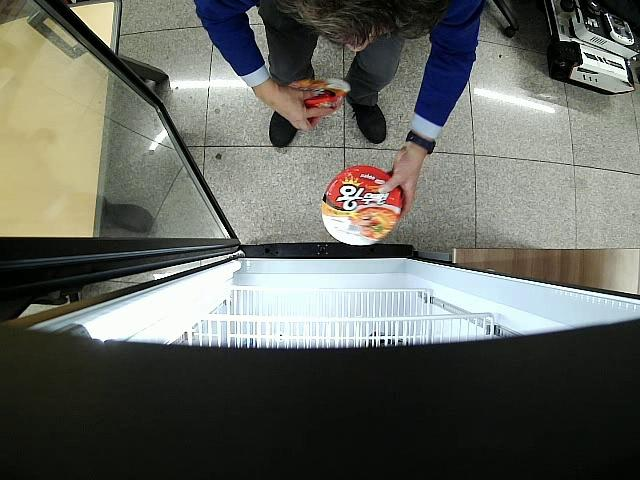00_hand: (254, 89, 334, 133), (379, 145, 420, 220)
10_wangTtukkeong: (321, 165, 404, 245), (288, 79, 350, 110)
